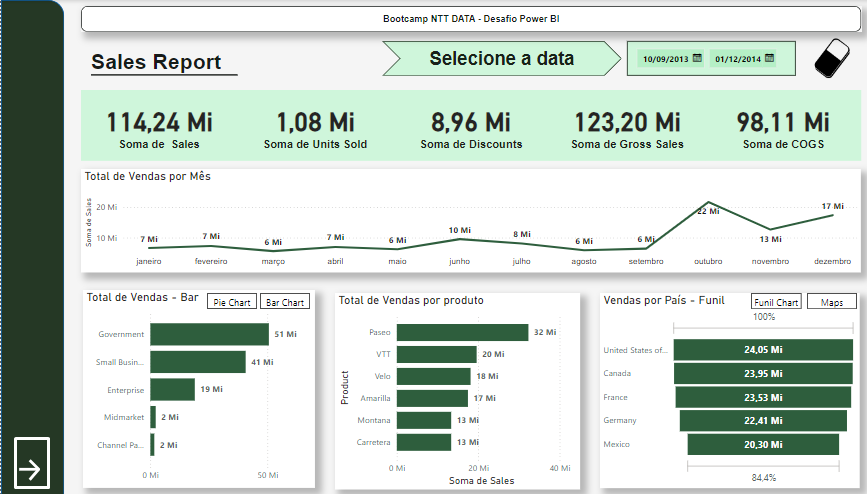

The dashboard page shown, as its layout file describes it:
{"tool":"powerbi","page":{"name":"Vendas","canvas":[1280,720],"ordinal":0},"visuals":[{"type":"slicer","fields":{"Values":["financials.Date"]},"box":[901.5,58.5,243.3,50.5],"z":0},{"type":"card","fields":{"Values":["Sum(financials. Sales)"]},"box":[115.3,129.7,224.7,102.1],"z":0,"group":"g2"},{"type":"clusteredBarChart","title":"Total de Vendas - Bar","fields":{"Category":["financials.Segment"],"Y":["Sum(financials. Sales)"]},"box":[117.7,417.9,334.4,284.6],"z":0,"group":"g1"},{"type":"map","title":"Vendas por País - Map","fields":{"Category":["financials.Country"],"Size":["Sum(financials. Sales)"]},"box":[864.2,422,374.2,280.9],"z":0,"group":"g3"},{"type":"card","fields":{"Values":["Sum(financials.Units Sold)"]},"box":[340,129.7,224.7,102.1],"z":1000,"group":"g2"},{"type":"donutChart","title":"Total de Vendas - Pie","fields":{"Category":["financials.Segment"],"Y":["Sum(financials. Sales)"]},"box":[117.7,417.9,335,284.9],"z":1000,"group":"g1"},{"type":"clusteredBarChart","title":"Total de Vendas por produto","fields":{"Y":["Sum(financials. Sales)"],"Category":["financials.Product"]},"box":[481.5,422,353.3,282.6],"z":1000},{"type":"actionButton","title":"Button - Bar Chart","box":[1080,422,72.7,23.2],"z":1250,"group":"g3"},{"type":"actionButton","title":"Button - Pie Chart","box":[295.8,422.9,72,22.8],"z":1250,"group":"g1"},{"type":"actionButton","title":"Button - Maps","box":[1160.9,422,71.7,23.2],"z":1500,"group":"g3"},{"type":"actionButton","title":"Button - Bar Chart ","box":[372.7,422.9,72,22.8],"z":1500,"group":"g1"},{"type":"shape","box":[549.1,58.5,345.2,50.5],"z":2000},{"type":"card","fields":{"Values":["Sum(financials.Discounts)"]},"box":[564.7,129.7,224.7,102.1],"z":2000,"group":"g2"},{"type":"card","fields":{"Values":["Sum(financials.Gross Sales)"]},"box":[789.3,129.7,224.7,102.1],"z":3000,"group":"g2"},{"type":"lineChart","title":"Total de Vendas por Mês","fields":{"Category":["financials.Date.Variation.Hierarquia de datas.Mês"],"Y":["Sum(financials. Sales)"]},"box":[115,243.6,1123.2,148.9],"z":3000},{"type":"shape","box":[0,0,90.9,719.4],"z":4000},{"type":"card","fields":{"Values":["Sum(financials.COGS)"]},"box":[1014,129.7,224.7,102.1],"z":4000,"group":"g2"},{"type":"group","id":"g1","title":"Sales Por Segmento","box":[117.7,417.9,335,284.9],"z":5000},{"type":"group","id":"g2","title":"Cartões","box":[115.3,129.7,1123.4,102.1],"z":6000},{"type":"actionButton","title":"Prox página","box":[19.6,657.2,50.1,40.3],"z":7000},{"type":"group","id":"g3","title":"Sales por Country","box":[863.1,422,375.3,281],"z":8000},{"type":"shape","box":[129.2,72.7,211,71.7],"z":9000},{"type":"shape","box":[115.1,9.1,1123.5,37.4],"z":10000},{"type":"image","box":[1152.8,50.5,87.8,66.6],"z":11000},{"type":"actionButton","box":[1159.9,50.5,78.7,66.6],"z":12000}]}

Visuals, with their boxes in screenshot pixels (x1, y1, x2, y2), scaled from the page's 1280x720 canvas onto the 867x494 screenshot:
slicer - financials.Date: box=[611, 40, 775, 75]
card - Sum(financials. Sales): box=[78, 89, 230, 159]
"Total de Vendas - Bar" clusteredBarChart: box=[80, 287, 306, 482]
"Vendas por País - Map" map: box=[585, 290, 839, 482]
card - Sum(financials.Units Sold): box=[230, 89, 382, 159]
"Total de Vendas - Pie" donutChart: box=[80, 287, 307, 482]
"Total de Vendas por produto" clusteredBarChart: box=[326, 290, 565, 483]
"Button - Bar Chart" actionButton: box=[732, 290, 781, 305]
"Button - Pie Chart" actionButton: box=[200, 290, 249, 306]
"Button - Maps" actionButton: box=[786, 290, 835, 305]
"Button - Bar Chart " actionButton: box=[252, 290, 301, 306]
shape: box=[372, 40, 606, 75]
card - Sum(financials.Discounts): box=[382, 89, 535, 159]
card - Sum(financials.Gross Sales): box=[535, 89, 687, 159]
"Total de Vendas por Mês" lineChart: box=[78, 167, 839, 269]
shape: box=[0, 0, 62, 493]
card - Sum(financials.COGS): box=[687, 89, 839, 159]
"Sales Por Segmento" group: box=[80, 287, 307, 482]
"Cartões" group: box=[78, 89, 839, 159]
"Prox página" actionButton: box=[13, 451, 47, 479]
"Sales por Country" group: box=[585, 290, 839, 482]
shape: box=[88, 50, 230, 99]
shape: box=[78, 6, 839, 32]
image: box=[781, 35, 840, 80]
actionButton: box=[786, 35, 839, 80]
